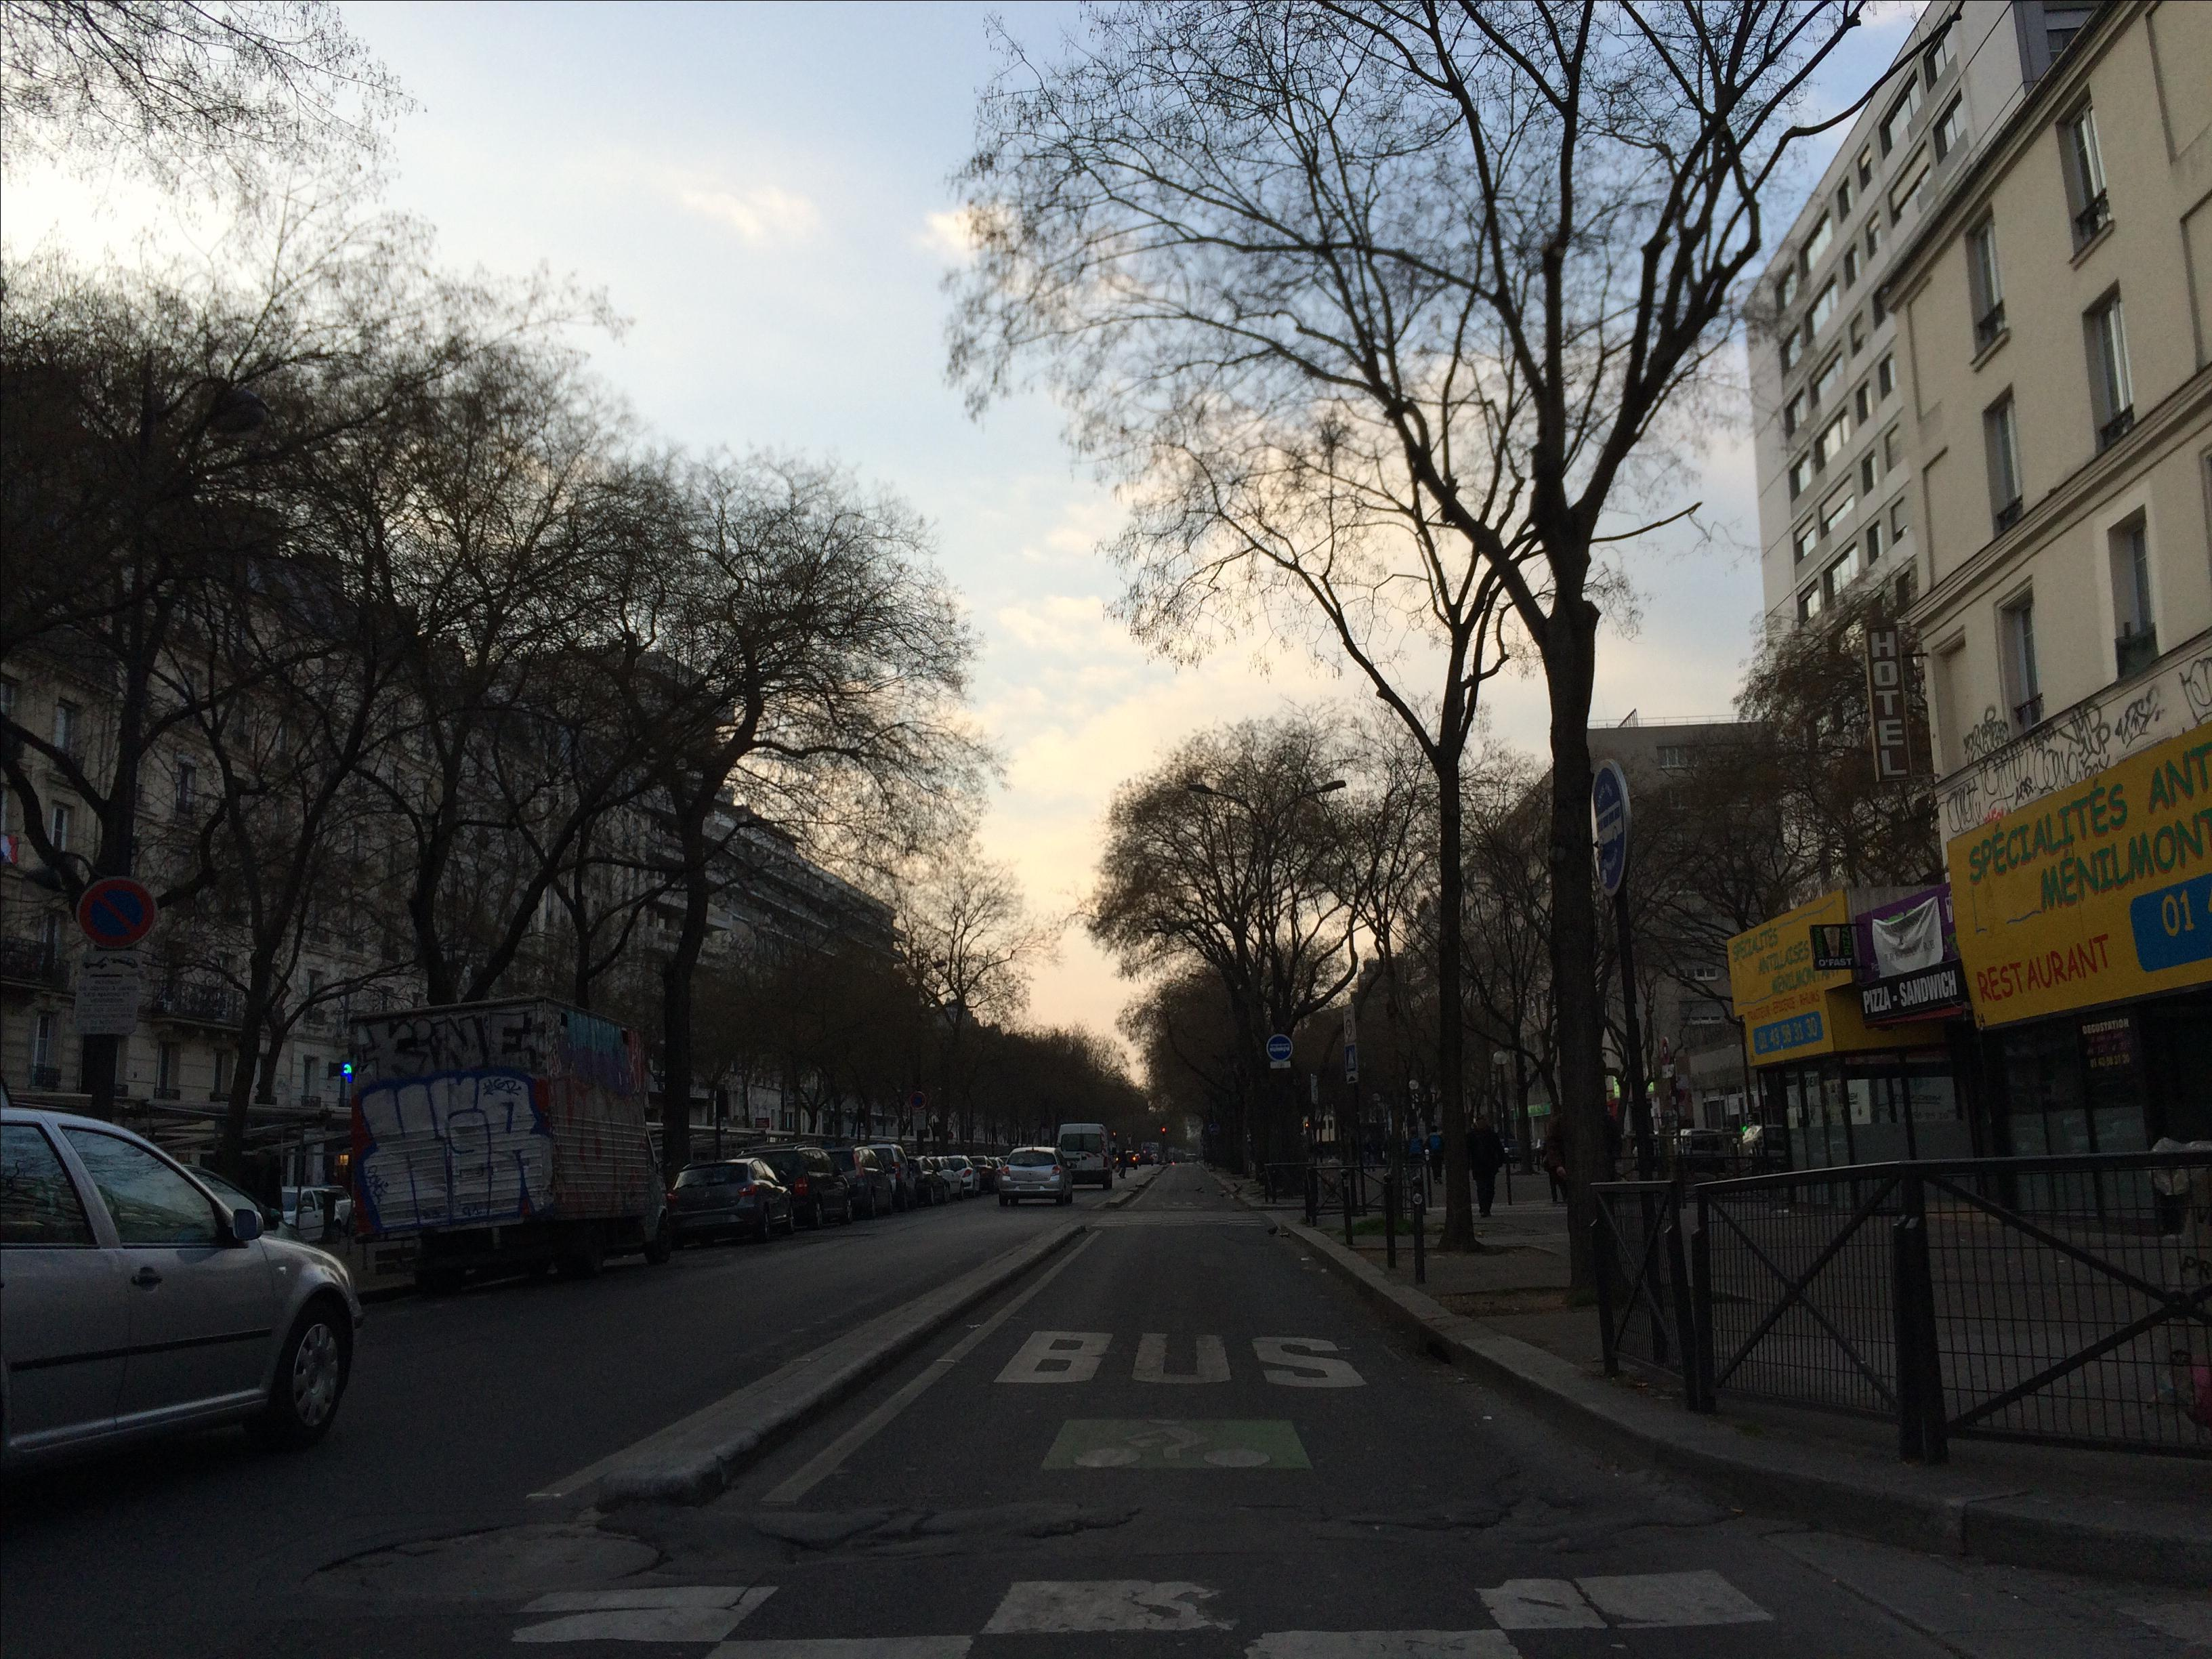vinyl banner: (1862, 896, 1966, 983)
